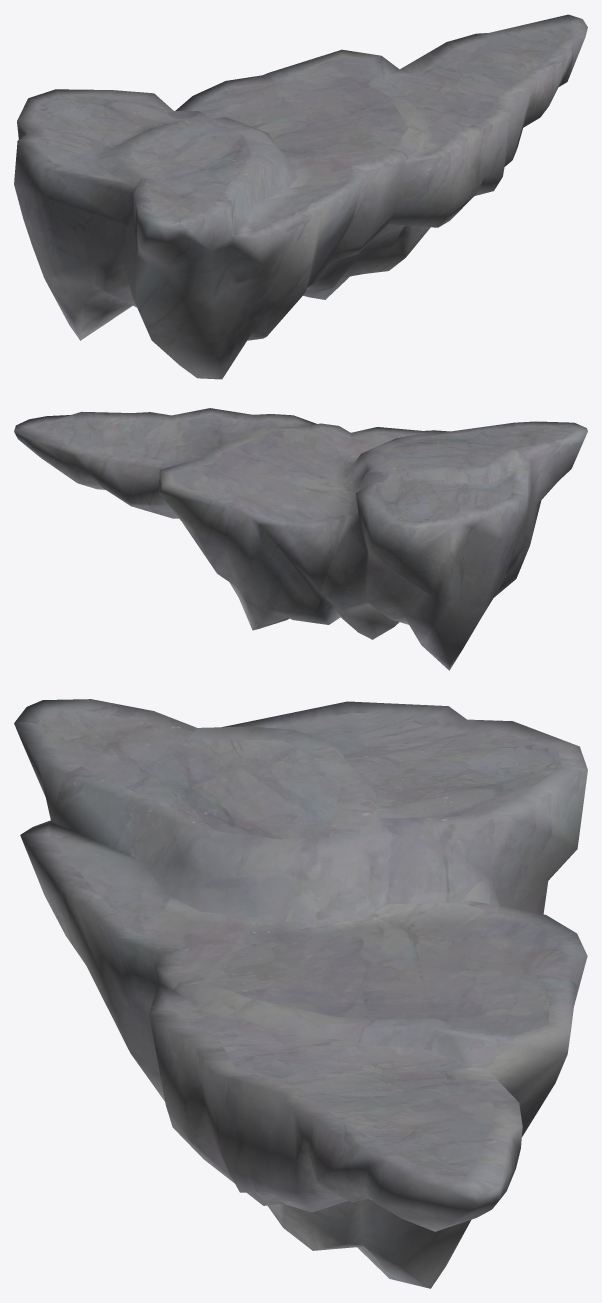
Rendered from Stages_MD_SDLStone05.fbx.
3 views of the same model, one above another, from view 1: azimuth 30°, elevation 25°; view 2: azimuth 150°, elevation 25°; view 3: azimuth 270°, elevation 25° (orthographic). The views are drawn at different scales.
Parts seen in each view (by area): view 1: Stages_MD_SDLStone05_Lod1; view 2: Stages_MD_SDLStone05_Lod1; view 3: Stages_MD_SDLStone05_Lod1.
Part boxes in pixels (x1=…): Stages_MD_SDLStone05_Lod1: x1=14, y1=14, x2=587, y2=379; Stages_MD_SDLStone05_Lod1: x1=14, y1=408, x2=587, y2=670; Stages_MD_SDLStone05_Lod1: x1=14, y1=699, x2=587, y2=1288.
Bounding box in the file's own units: 89.72 × 33.3 × 47.42.
1 material, 1 textured.
